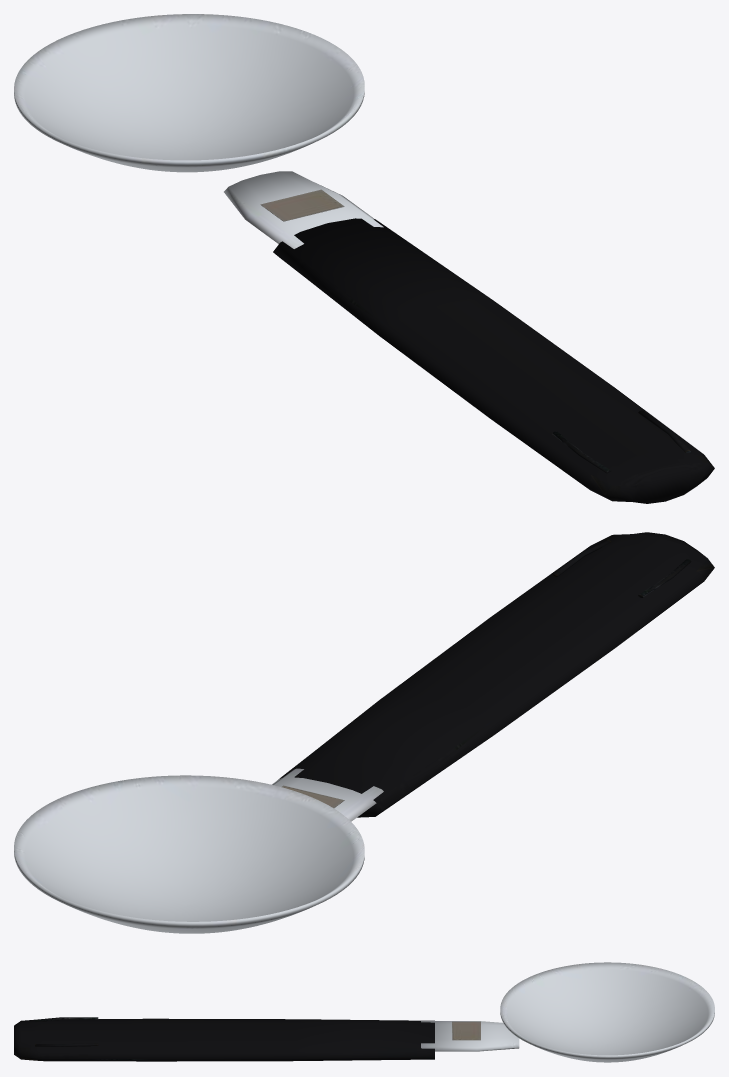
3 renders of one model, top to bottom at view 1: azimuth 30°, elevation 25°; view 2: azimuth 150°, elevation 25°; view 3: azimuth 270°, elevation 25°, orthographic. The views are drawn at different scales.
Parts seen in each view (by area): view 1: body; view 2: body; view 3: body.
Boxes of the visible parts, x1,y1,x2,y2 form: body: (14,14,714,503); body: (14,532,714,933); body: (14,962,714,1062).
Size of the model in its own units: 0.0363 by 0.00748 by 0.1158.
3 materials, 3 textured.
